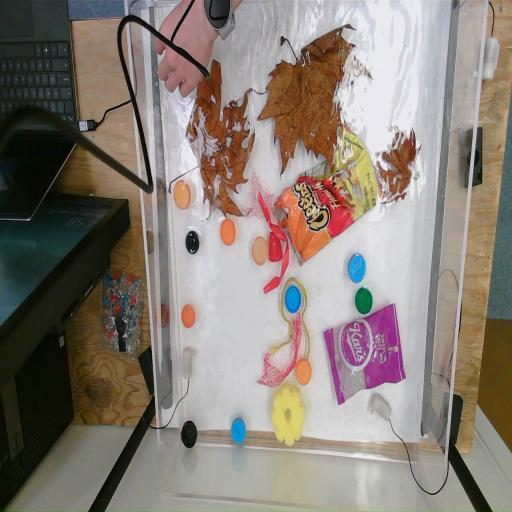Bottle Cap: (348, 252, 366, 284), (354, 286, 373, 316), (174, 180, 192, 210), (180, 421, 198, 450), (295, 358, 313, 387), (253, 236, 269, 267), (230, 417, 246, 445), (180, 304, 196, 330), (220, 220, 236, 246), (286, 284, 300, 312), (185, 230, 200, 256)
Cone Cap: (270, 231, 284, 262)
Leaf: (259, 26, 368, 167), (170, 63, 258, 224), (378, 126, 422, 207)
Netting: (254, 313, 302, 390), (244, 168, 274, 222)
Plastic Bag: (274, 127, 382, 265), (324, 303, 406, 410)
Plastic Strand: (270, 277, 312, 369), (258, 190, 290, 295)
Sponge: (270, 383, 306, 445)
